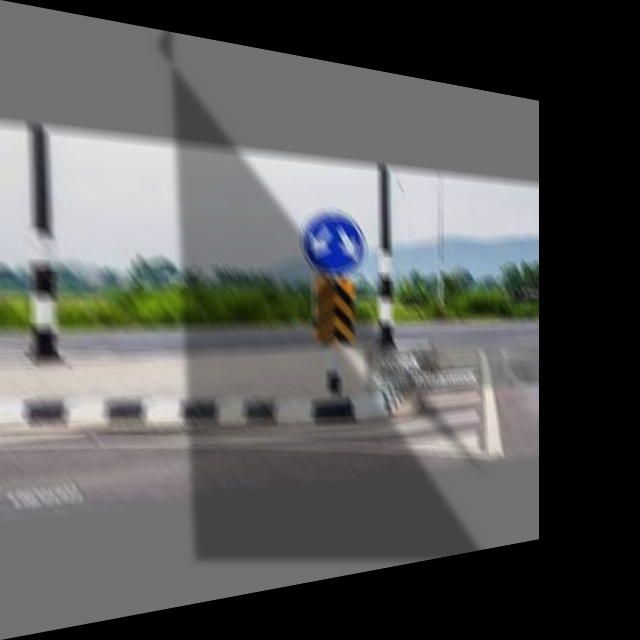Pass_Either_Side: (300, 206, 367, 277)
